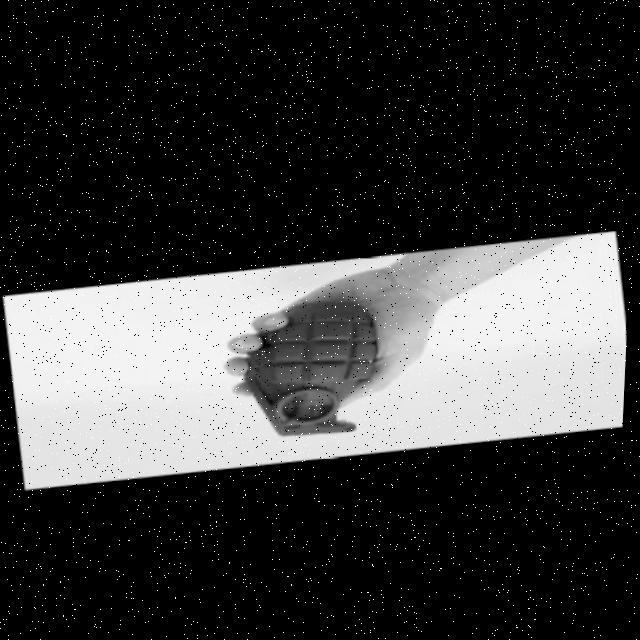grenade: (236, 274, 406, 450)
